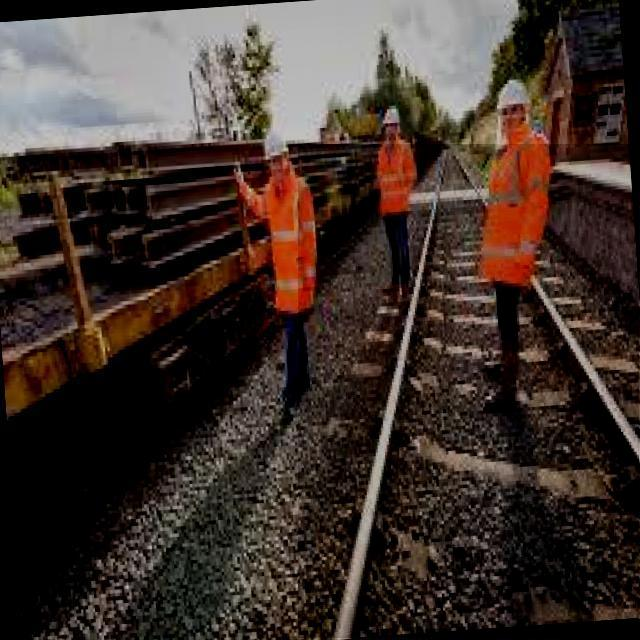rail: (300, 145, 640, 639)
